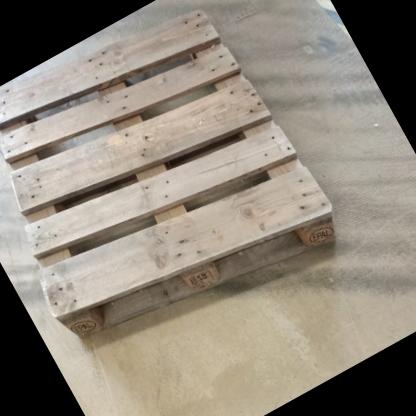BoxFace: (0, 2, 338, 349)
